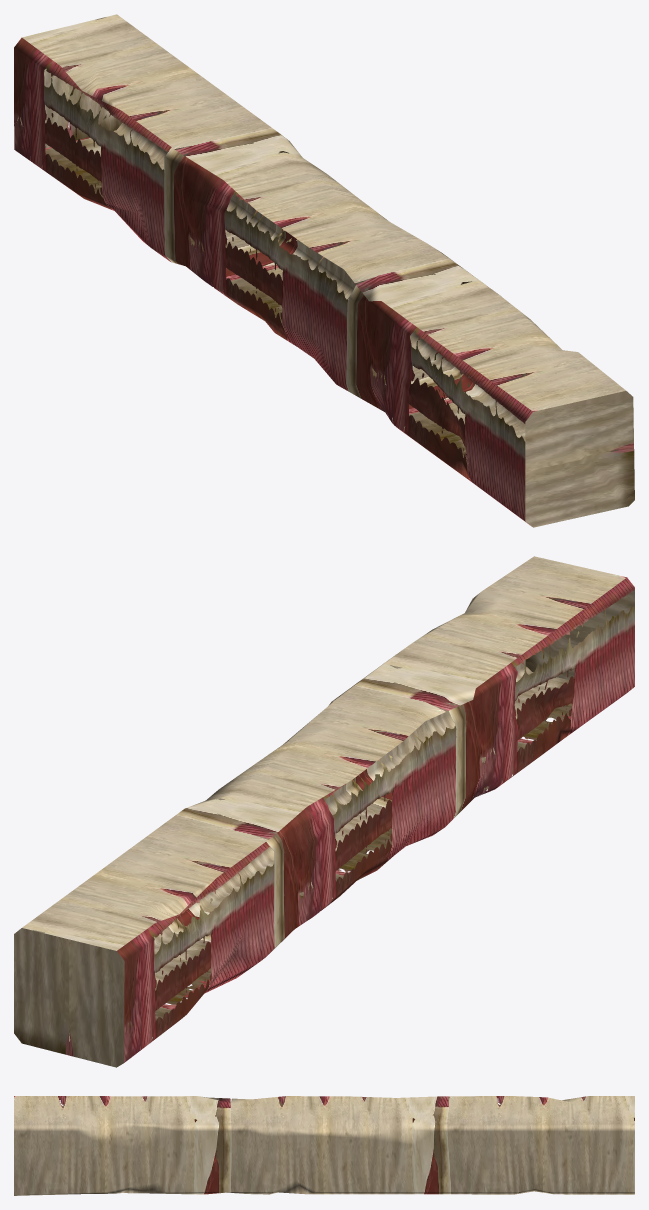
3 renders of one model, top to bottom at view 1: azimuth 30°, elevation 25°; view 2: azimuth 150°, elevation 25°; view 3: azimuth 270°, elevation 25°, orthographic. The views are drawn at different scales.
Parts seen in each view (by area): view 1: SM_Wrapped_Liquid_Container_01_LOD0; view 2: SM_Wrapped_Liquid_Container_01_LOD0; view 3: SM_Wrapped_Liquid_Container_01_LOD0.
Part boxes in pixels (x1,y1,x2,y2): SM_Wrapped_Liquid_Container_01_LOD0: (14,14,634,527); SM_Wrapped_Liquid_Container_01_LOD0: (14,556,634,1067); SM_Wrapped_Liquid_Container_01_LOD0: (14,1096,634,1195).
Size of the model in its own units: 1 by 1.02 by 8.
